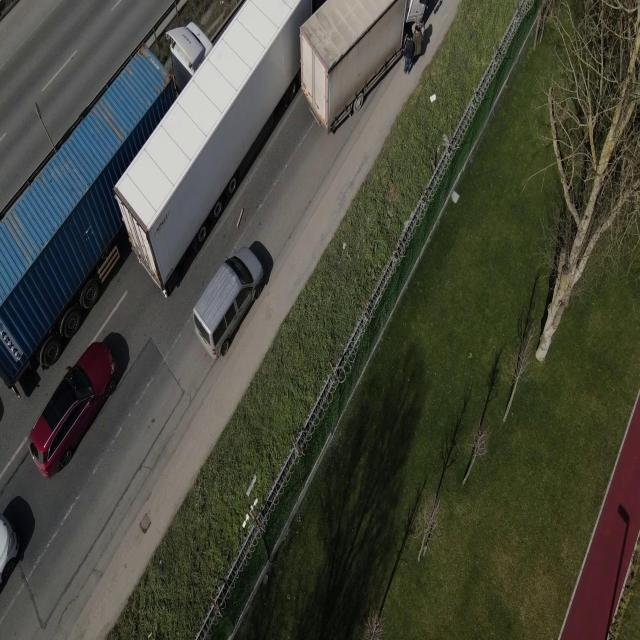p3rson: (403, 34, 415, 76), (414, 25, 423, 60), (419, 18, 425, 37)
